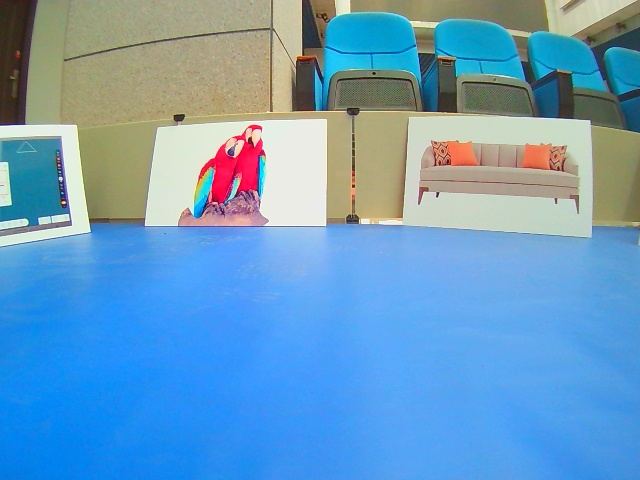pet: (143, 119, 329, 227)
sofa: (402, 114, 595, 239)
